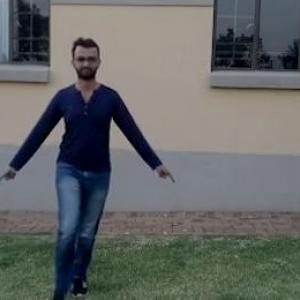land: (20, 59, 150, 256)
